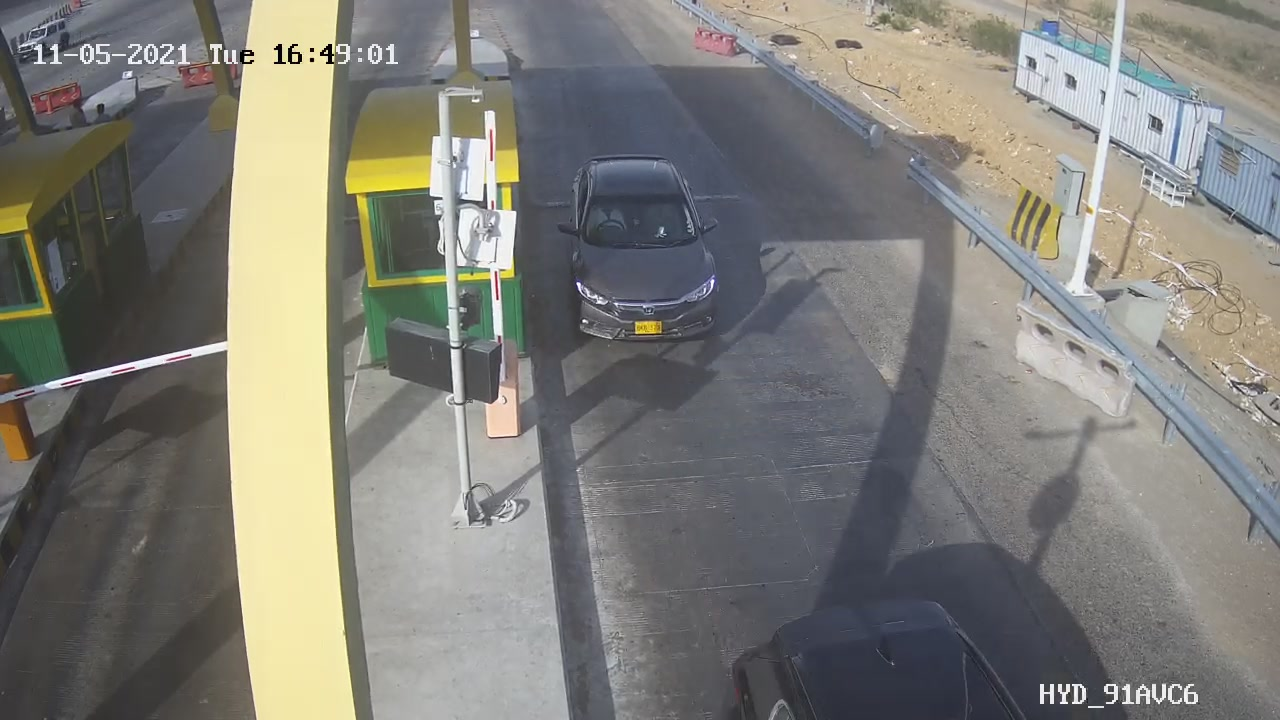F1: (542, 136, 746, 361)
